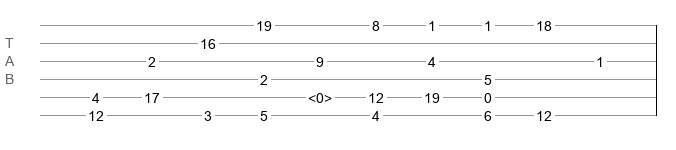0: (484, 90, 492, 100)
1: (428, 18, 436, 28), (484, 18, 492, 28), (596, 54, 604, 64)
12: (88, 108, 104, 118), (368, 90, 384, 100), (536, 108, 552, 118)
16: (200, 36, 216, 46)
17: (144, 90, 160, 100)
18: (536, 18, 552, 28)
19: (256, 18, 272, 28), (424, 90, 440, 100)
2: (148, 54, 156, 64), (260, 72, 268, 82)
3: (204, 108, 212, 118)
4: (92, 90, 100, 100), (372, 108, 380, 118), (428, 54, 436, 64)
5: (260, 108, 268, 118), (484, 72, 492, 82)
6: (484, 108, 492, 118)
8: (372, 18, 380, 28)
9: (316, 54, 324, 64)
harmonic: (308, 90, 332, 100)
